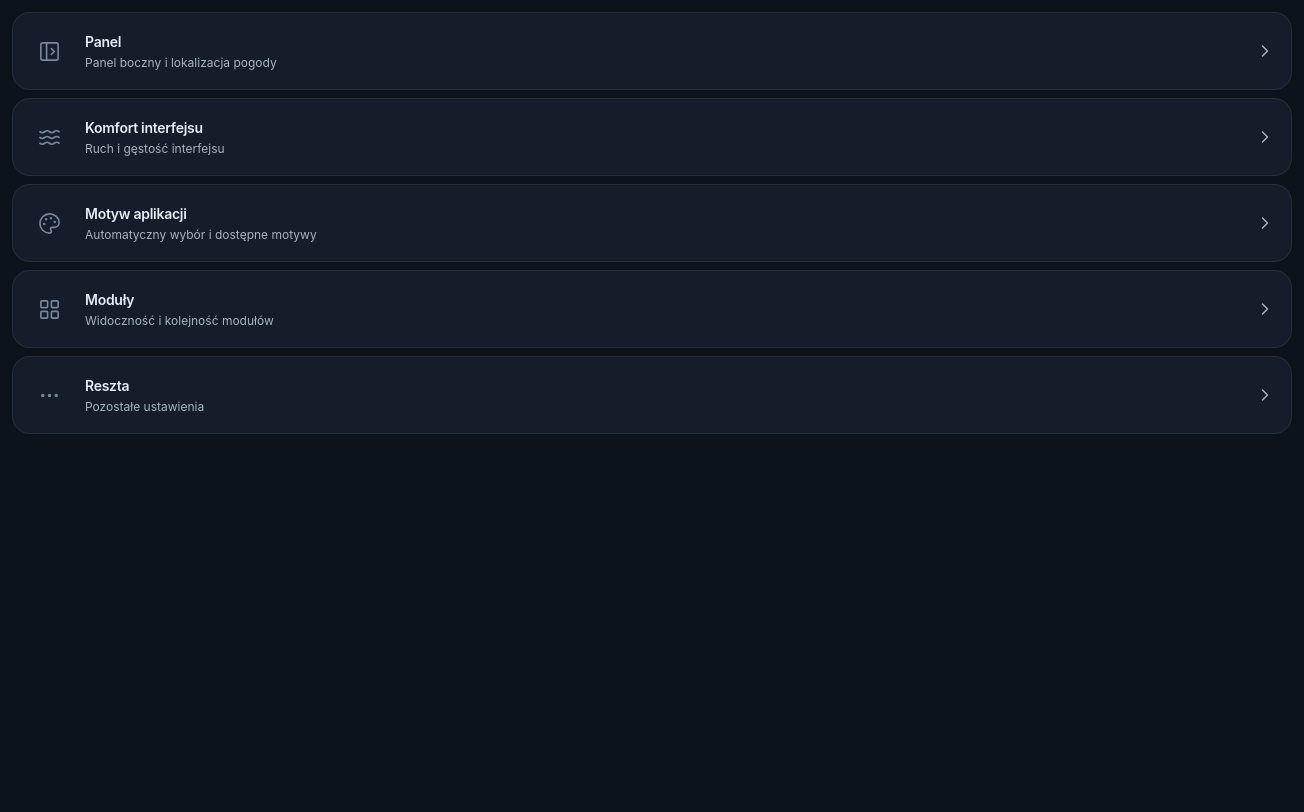
Test case: SettingsAccordions › starts collapsed and keeps only one section open
Click the button with aria-label "Panel: Panel boczny i lokalizacja pogody".
click(103, 41)  # box [13,13,1291,89]
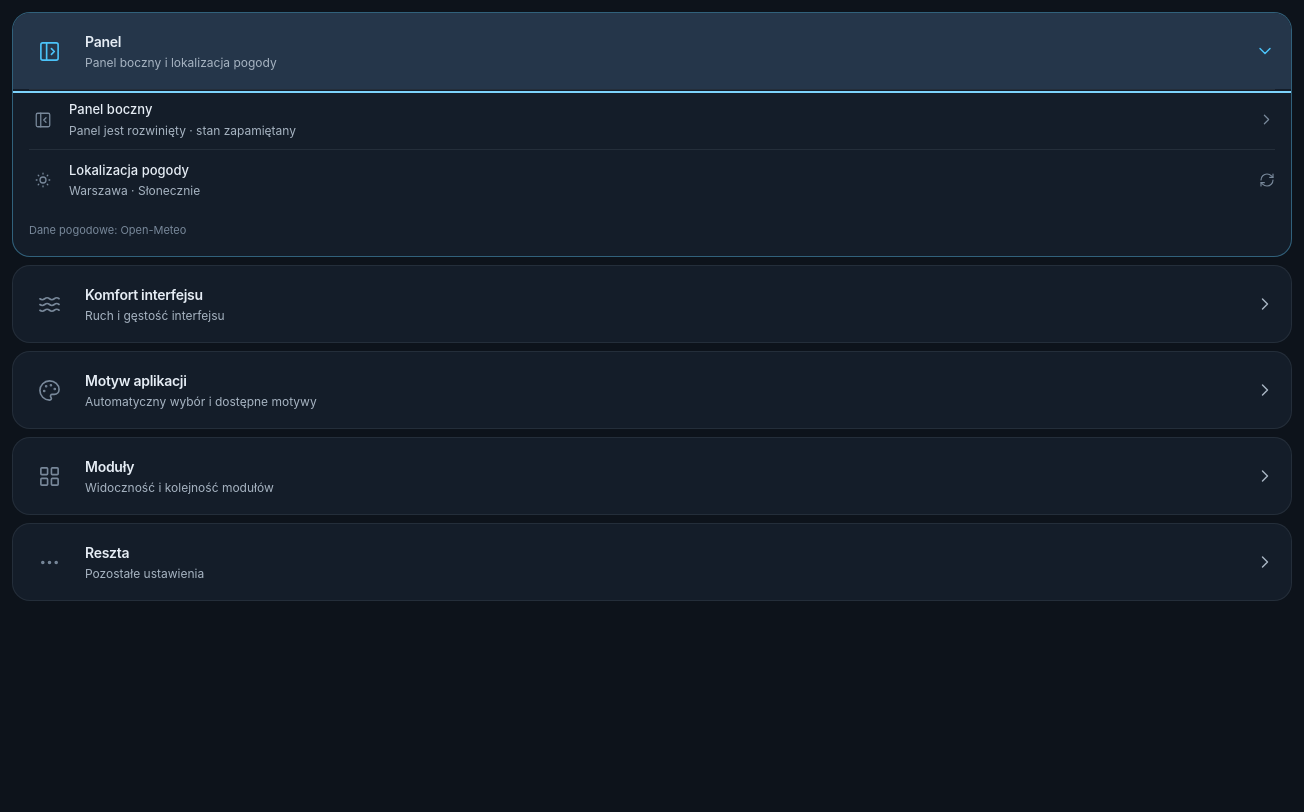
Check: the button with aria-label "Panel: Panel boczny i lokalizacja pogody" is expanded, box [13,13,1291,89]
Click the button "Komfort interfejsu Ruch i gęstość interfejsu".
click(144, 294)  # box [13,266,1291,342]
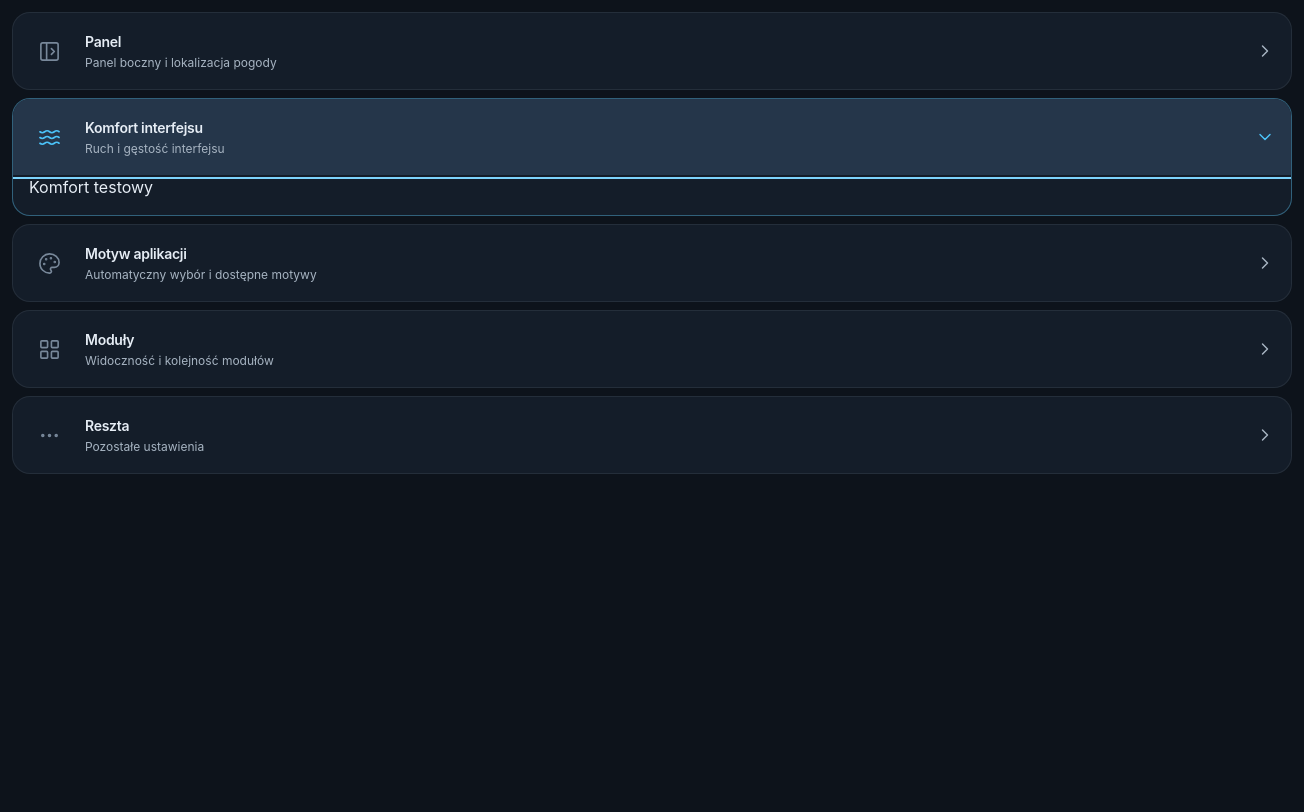
Check: the button with aria-label "Panel: Panel boczny i lokalizacja pogody" is collapsed, box [13,13,1291,89]
Check: the button "Komfort interfejsu Ruch i gęstość interfejsu" is expanded
Click the button "Komfort interfejsu Ruch i gęstość interfejsu".
click(144, 127)  # box [13,99,1291,175]
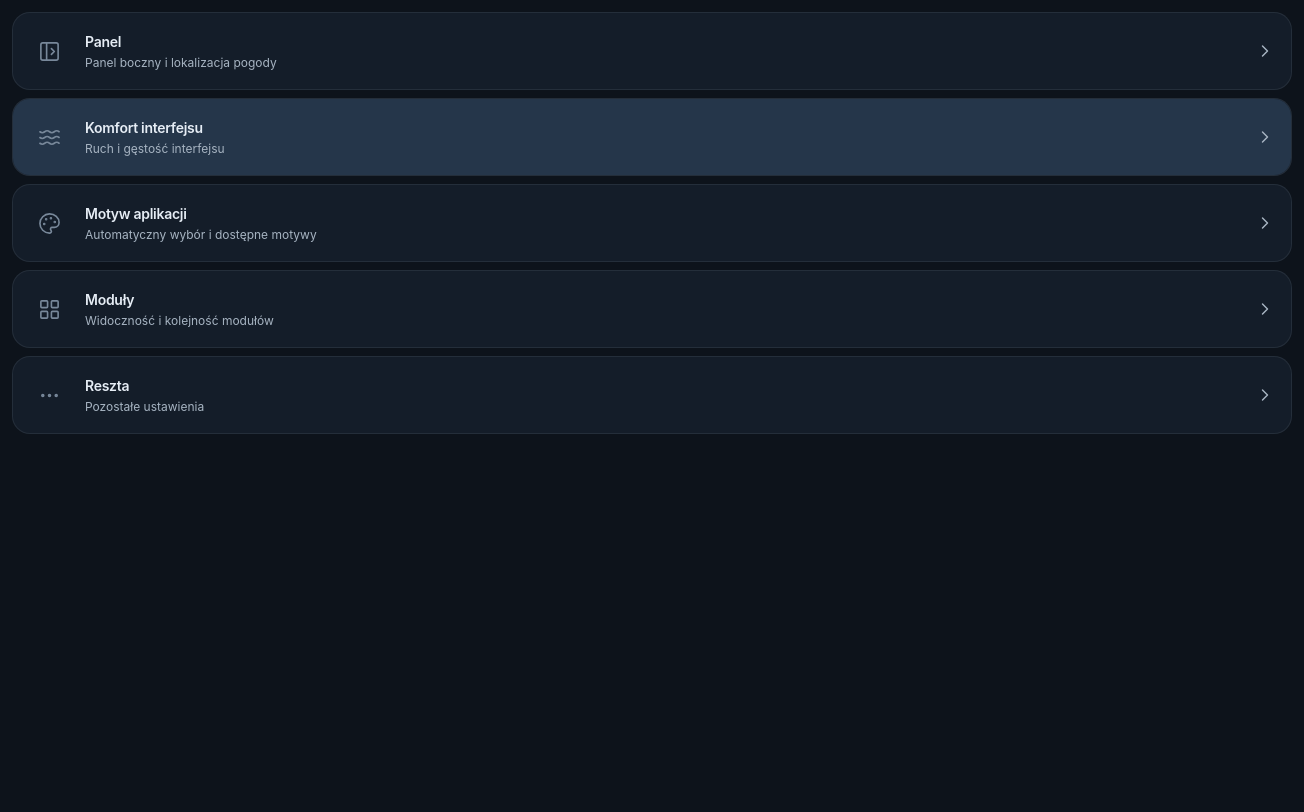
Check: the button "Komfort interfejsu Ruch i gęstość interfejsu" is collapsed, box [13,99,1291,175]
